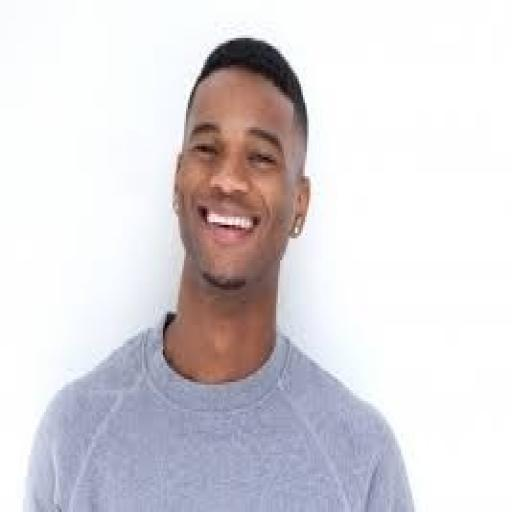laughing: (17, 27, 424, 509)
